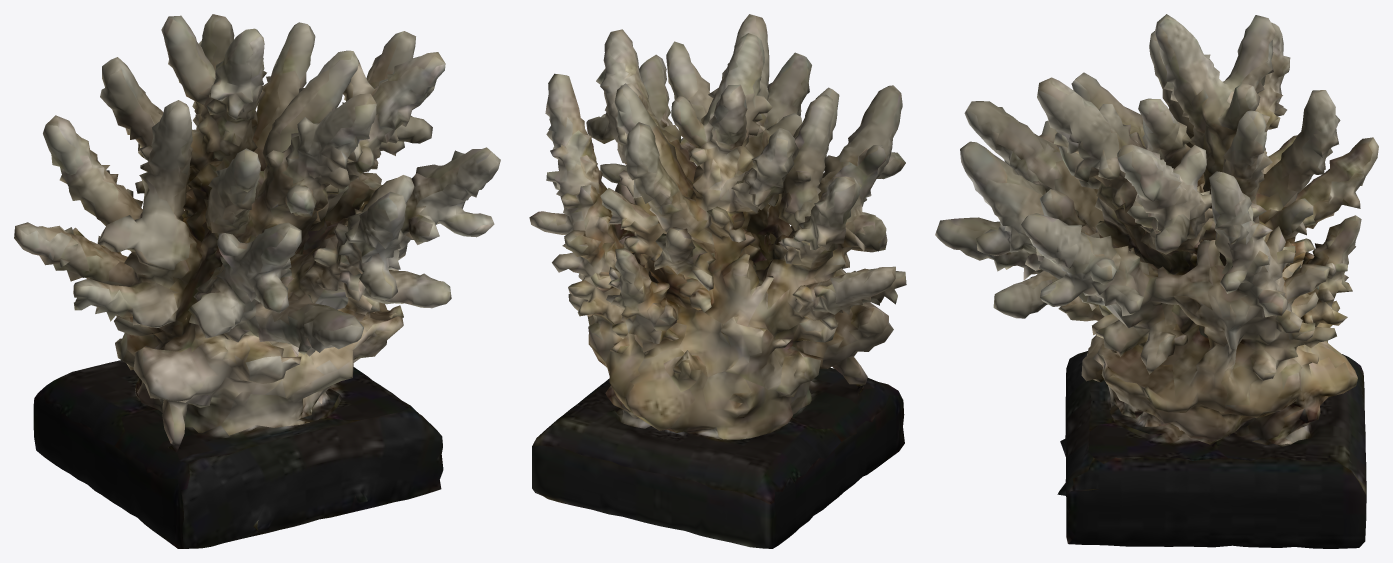
The model's file is acropora-humilis-mobile.glb.
3 views of the same model, side by side, from view 1: azimuth 30°, elevation 25°; view 2: azimuth 150°, elevation 25°; view 3: azimuth 270°, elevation 25° (orthographic). The views are drawn at different scales.
Size of the model in its own units: 95.53 by 108 by 93.53.
1 material, 1 textured.
